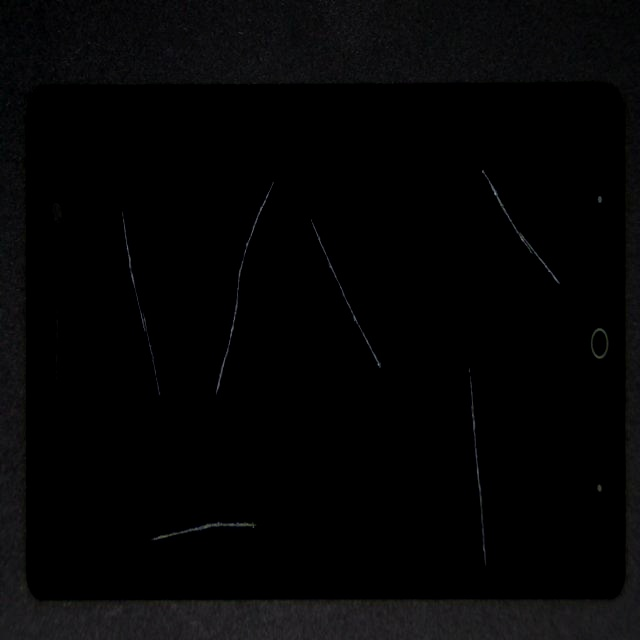scratch: (262, 394, 640, 640), (260, 42, 640, 246), (161, 0, 364, 373), (178, 270, 366, 640), (243, 272, 550, 463), (109, 308, 228, 494)
